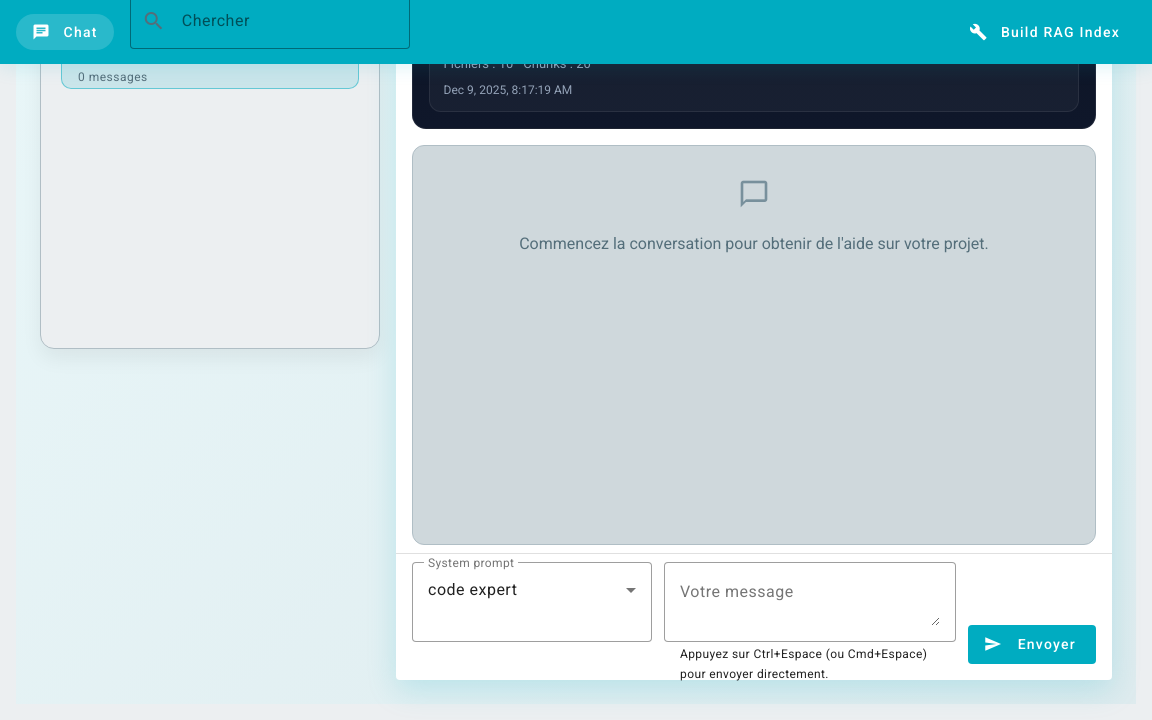
Chat / multi-source flows › sends a chat message and renders assistant reply
(page scrolled)
Type "Bonjour, aide-moi !" into the text box with test id "question-input" at point(810, 602), box 680,578 -> 940,626
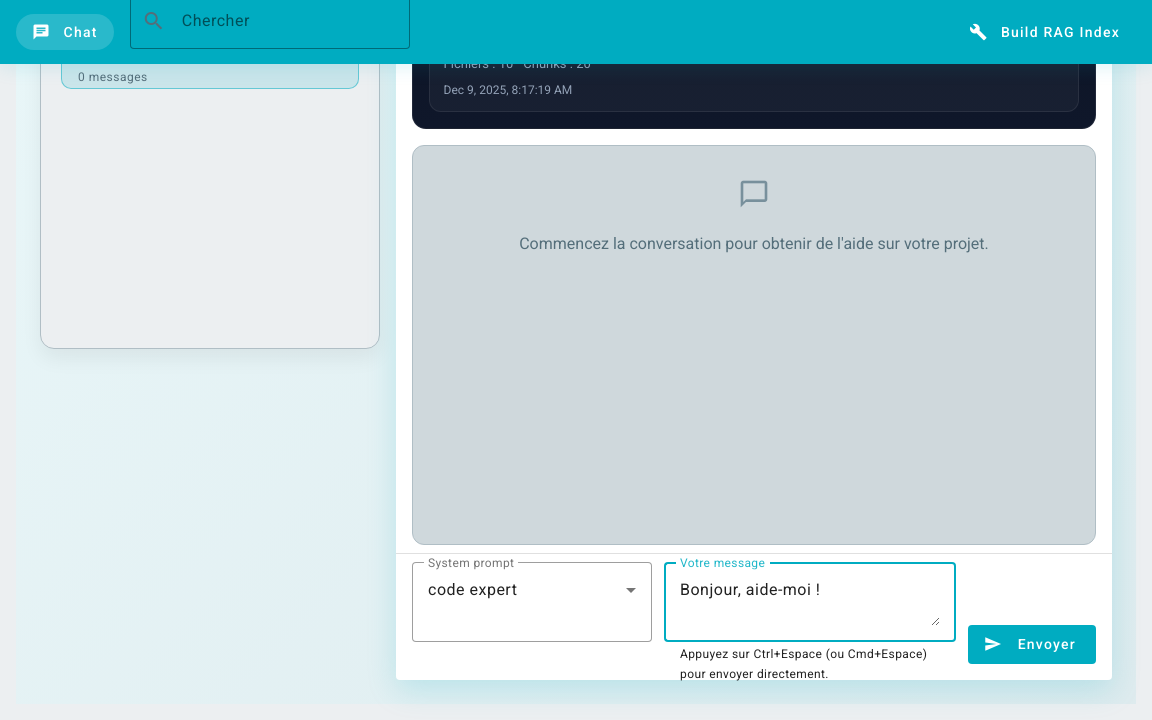
Click the button with test id "send-button" at point(1032, 645), box 968,625 -> 1096,664
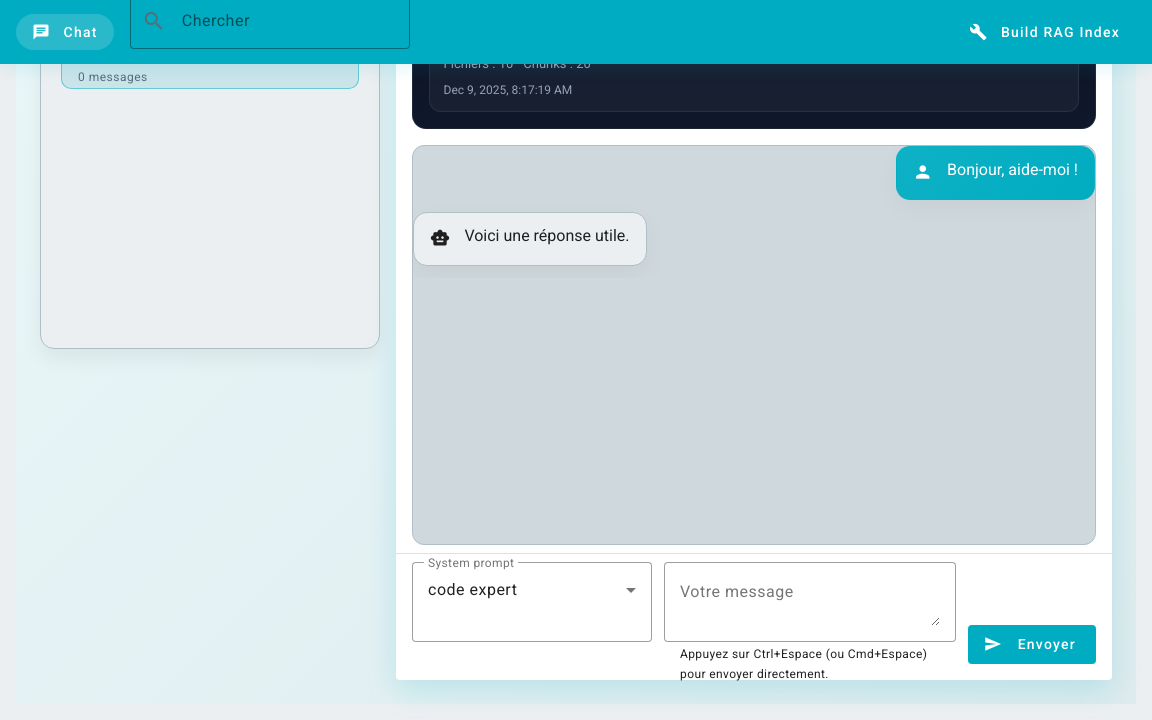
expect the text with class "message__content" reads "Bonjour, aide-moi !": met, box 947,160 -> 1078,179
expect the text with class "message__content" reads "Voici une réponse utile.": met, box 464,226 -> 629,245
expect the number of elements with class "message--assistant" is 1: met, box 413,212 -> 647,266
